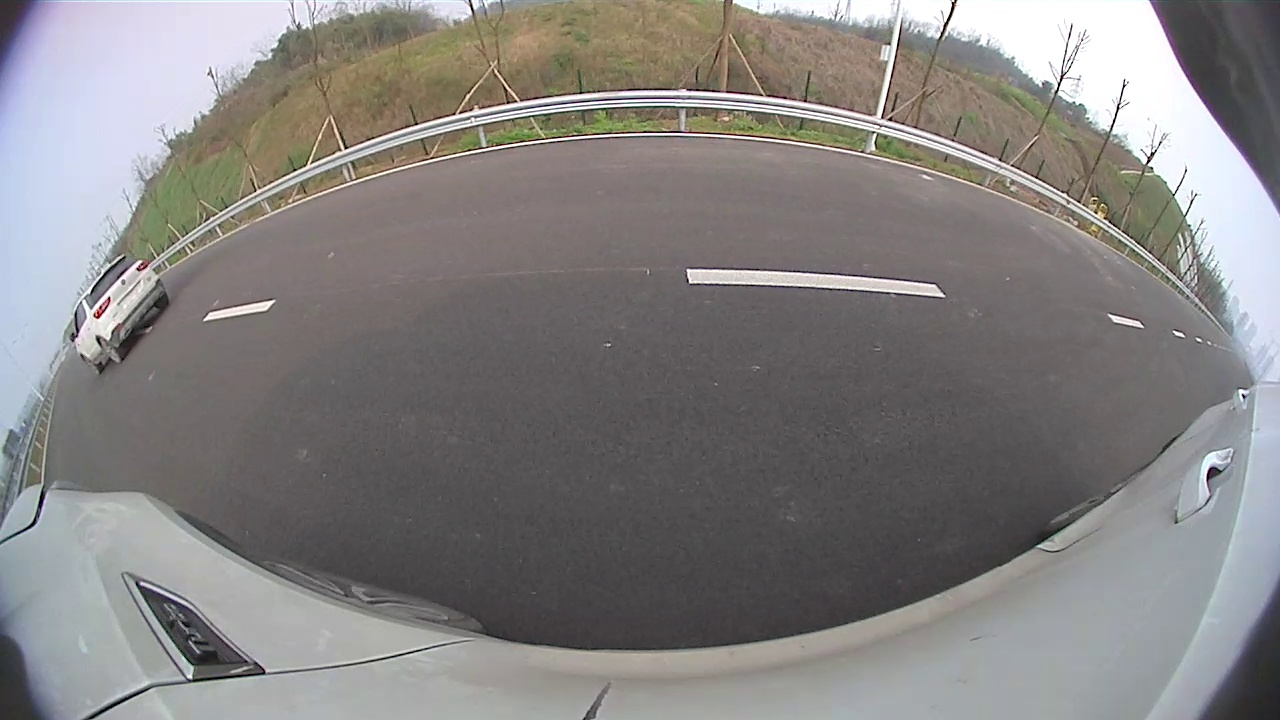car: (132, 88, 421, 284)
front: (240, 200, 302, 266)
rear: (150, 242, 187, 284)
